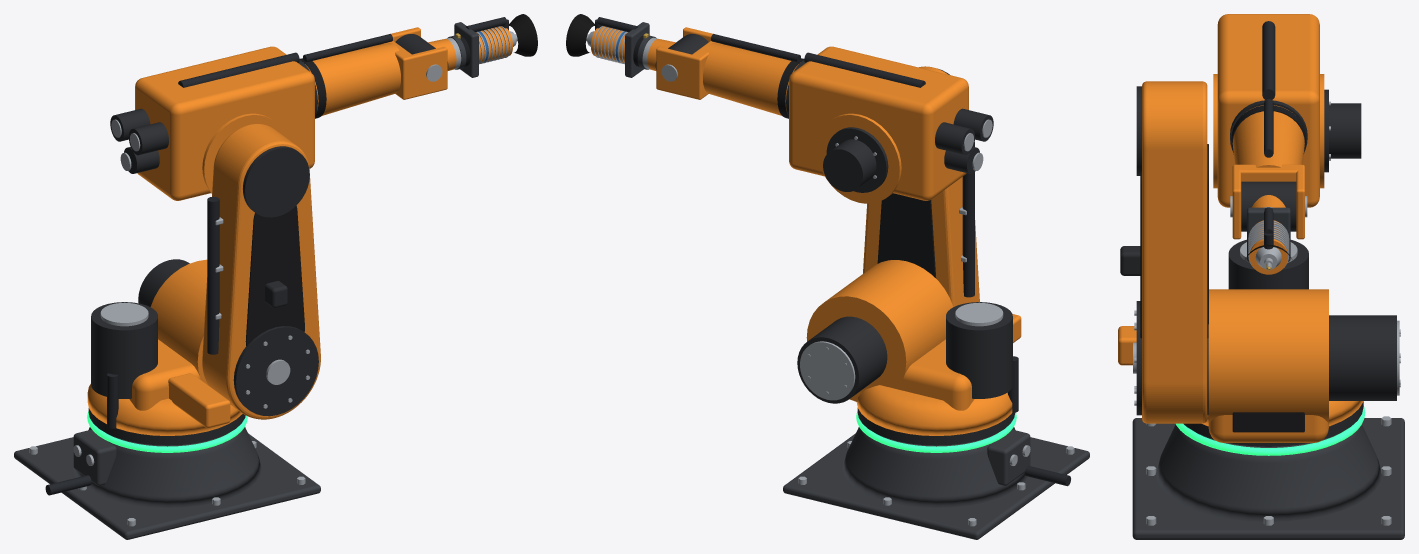
File: robot_cnc.glb
3 views of the same model, side by side, from view 1: azimuth 30°, elevation 25°; view 2: azimuth 150°, elevation 25°; view 3: azimuth 270°, elevation 25° (orthographic). The views are drawn at different scales.
Parts seen in each view (by area): view 1: Pedestal_base, Link3_body, Link2_body, Link1_body, Link2_joint, Link4_body, Link2_accent, Link1_joint, Link3_joint, Link2_hose, Pedestal_joint, StatusRing (+9 smaller); view 2: Pedestal_base, Link3_body, Link1_body, Link1_joint, Link4_body, Link3_joint, Link2_body, Link2_accent, Link1_steel, Pedestal_joint, Link2_hose, StatusRing (+6 smaller); view 3: Pedestal_base, Link2_body, Link1_body, Link3_body, Link1_joint, Link4_body, Link3_joint, StatusRing, Link1_accent, Link5_joint, Link2_joint, Spindle_steel (+12 smaller).
Part boxes in pixels (bbox=[...]): Pedestal_base: bbox=[14, 427, 320, 539]; Link3_body: bbox=[135, 46, 314, 200]; Link2_body: bbox=[202, 124, 320, 419]; Link1_body: bbox=[87, 259, 242, 435]; Link2_joint: bbox=[233, 146, 318, 416]; Link4_body: bbox=[305, 27, 447, 115]; Link2_accent: bbox=[245, 205, 304, 346]; Link1_joint: bbox=[91, 259, 189, 398]; Link3_joint: bbox=[110, 108, 168, 173]; Link2_hose: bbox=[207, 196, 219, 354]; Pedestal_joint: bbox=[88, 408, 245, 445]; StatusRing: bbox=[87, 411, 247, 452]; Pedestal_base: bbox=[783, 427, 1089, 539]; Link3_body: bbox=[789, 46, 968, 203]; Link1_body: bbox=[806, 260, 1021, 435]; Link1_joint: bbox=[797, 302, 1012, 403]; Link4_body: bbox=[656, 27, 798, 115]; Link3_joint: bbox=[823, 108, 993, 192]; Link2_body: bbox=[863, 66, 979, 306]; Link2_accent: bbox=[877, 193, 936, 278]; Link1_steel: bbox=[800, 302, 1003, 400]; Pedestal_joint: bbox=[857, 408, 1014, 445]; Link2_hose: bbox=[962, 142, 974, 297]; StatusRing: bbox=[856, 411, 1016, 452]; Pedestal_base: bbox=[1132, 418, 1404, 539]; Link2_body: bbox=[1142, 81, 1207, 423]; Link1_body: bbox=[1118, 289, 1363, 442]; Link3_body: bbox=[1213, 14, 1324, 207]; Link1_joint: bbox=[1228, 239, 1396, 400]; Link4_body: bbox=[1232, 105, 1304, 239]; Link3_joint: bbox=[1324, 89, 1361, 172]; StatusRing: bbox=[1176, 406, 1365, 455]; Link1_accent: bbox=[1232, 412, 1304, 432]; Link5_joint: bbox=[1241, 181, 1296, 231]; Link2_joint: bbox=[1136, 86, 1208, 415]; Spindle_steel: bbox=[1248, 221, 1289, 269].
Size of the model in its own units: 3.09 by 2.38 by 1.32.
